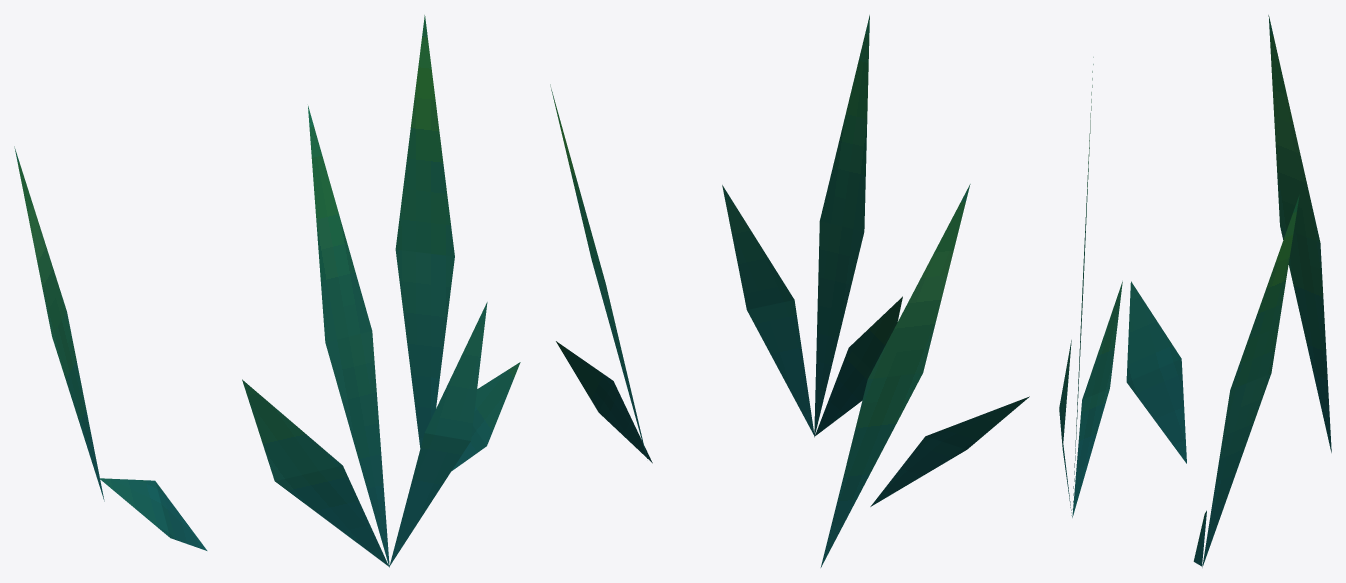
The model's file is plants_me_level_grass51.gltf.
3 renders of one model, left to right at view 1: azimuth 30°, elevation 25°; view 2: azimuth 150°, elevation 25°; view 3: azimuth 270°, elevation 25°, orthographic. The views are drawn at different scales.
Parts seen in each view (by area): view 1: um_plants_me_level_grass51_model_plants_me_level_grass51_mod; view 2: um_plants_me_level_grass51_model_plants_me_level_grass51_mod; view 3: um_plants_me_level_grass51_model_plants_me_level_grass51_mod.
Boxes of the visible parts, <box> form: um_plants_me_level_grass51_model_plants_me_level_grass51_mod: <box>14,15,520,567</box>; um_plants_me_level_grass51_model_plants_me_level_grass51_mod: <box>550,15,1029,567</box>; um_plants_me_level_grass51_model_plants_me_level_grass51_mod: <box>1059,15,1331,567</box>.
Size of the model in its own units: 0.4698 by 0.45 by 0.2521.
Materials: 1 (1 with a texture image).
